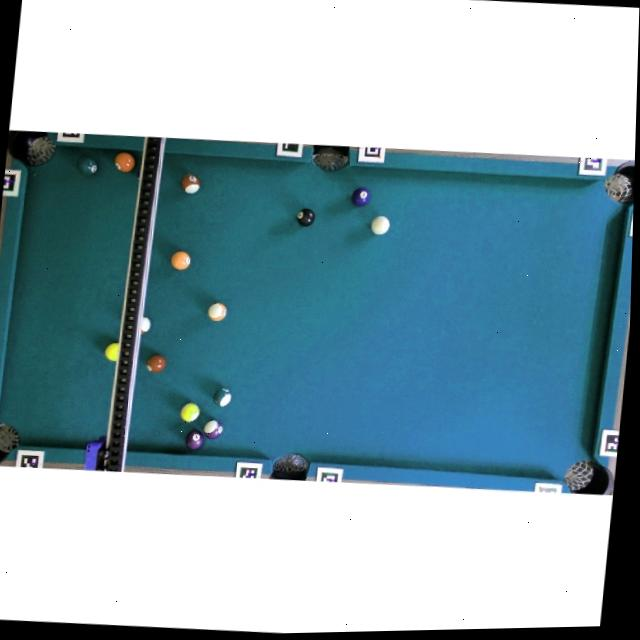cue ball: (369, 215, 390, 235)
other: (75, 154, 99, 177), (113, 151, 135, 173), (295, 205, 316, 227), (184, 429, 205, 451), (169, 250, 191, 271), (179, 401, 200, 423), (145, 353, 167, 374), (350, 186, 371, 207), (206, 301, 227, 322), (180, 173, 201, 193), (212, 386, 232, 407), (203, 419, 223, 439), (103, 342, 119, 361), (139, 315, 152, 333)
